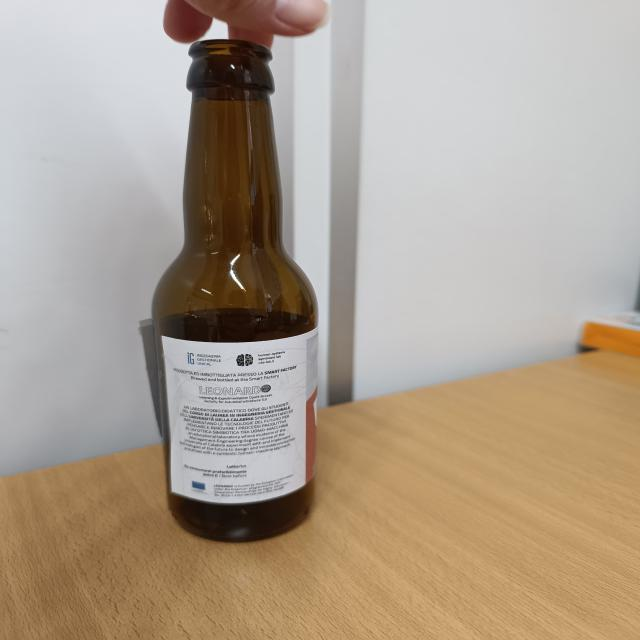Bottle: (149, 42, 324, 542)
Label: (163, 331, 318, 505)
